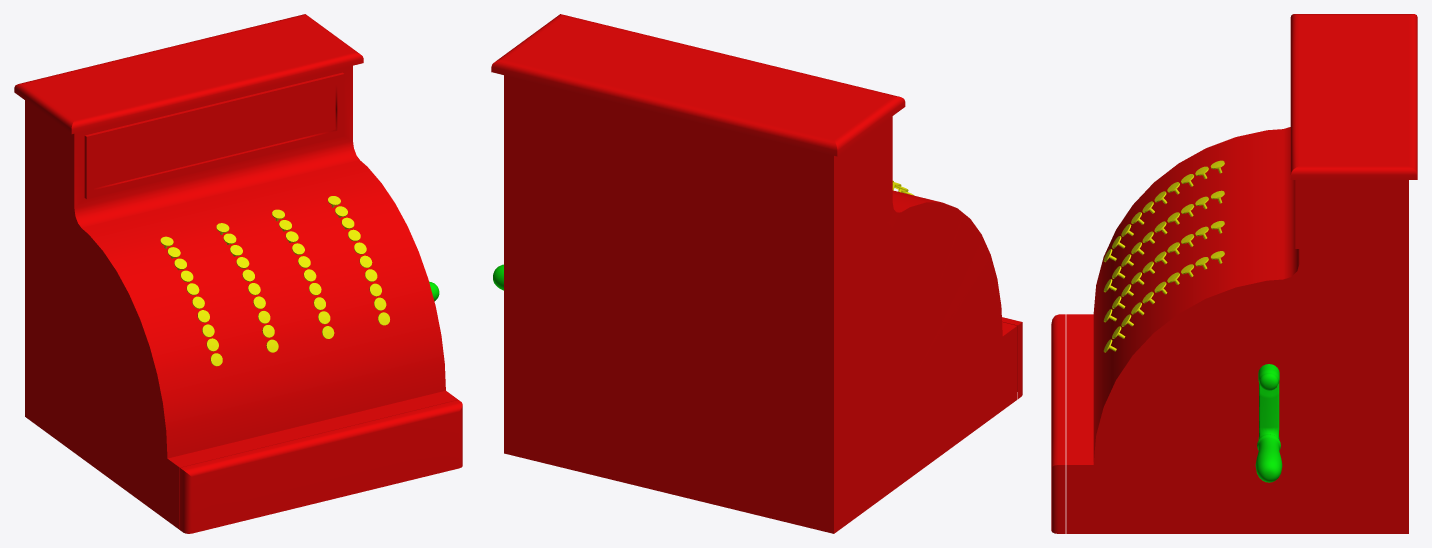
The model's file is DB_Cash_Register.fbx.
The picture shows the model from 3 angles, left to right: view 1: azimuth 30°, elevation 25°; view 2: azimuth 150°, elevation 25°; view 3: azimuth 270°, elevation 25°; orthographic projection. The views are drawn at different scales.
Parts seen in each view (by area): view 1: Body, Buttons; view 2: Body; view 3: Body, Buttons, Lever.
Part boxes in pixels (x1,y1,x2,y2): Body: (14, 14, 462, 533); Buttons: (160, 196, 389, 366); Body: (491, 14, 1022, 533); Body: (1051, 14, 1417, 533); Buttons: (1103, 160, 1224, 352); Lever: (1255, 364, 1282, 482).
Size of the model in its own units: 0.3 by 0.2675 by 0.2413.
